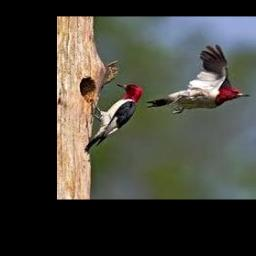Woodpecker: (146, 44, 250, 114), (84, 83, 144, 153)
